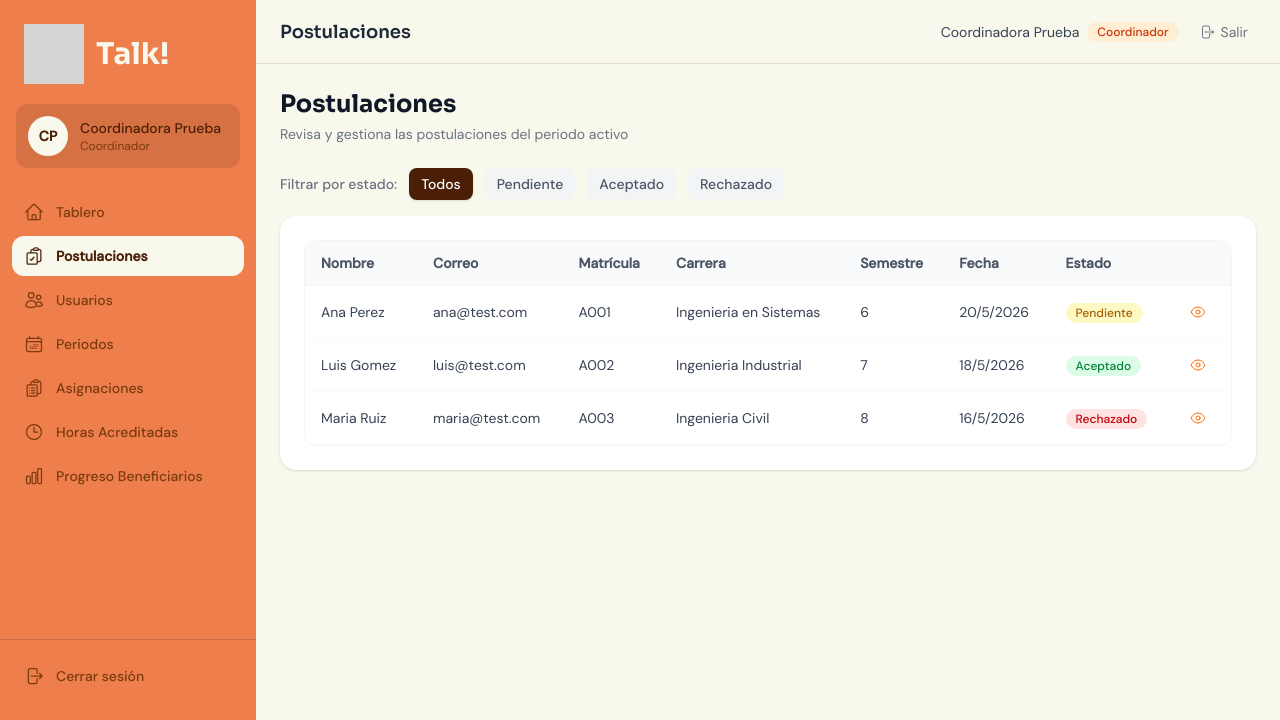
Postulaciones › closes detail modal without state changes
Click the button without text in the row of "Ana Perez".
click(1198, 312)  # box [1184, 298, 1212, 326]
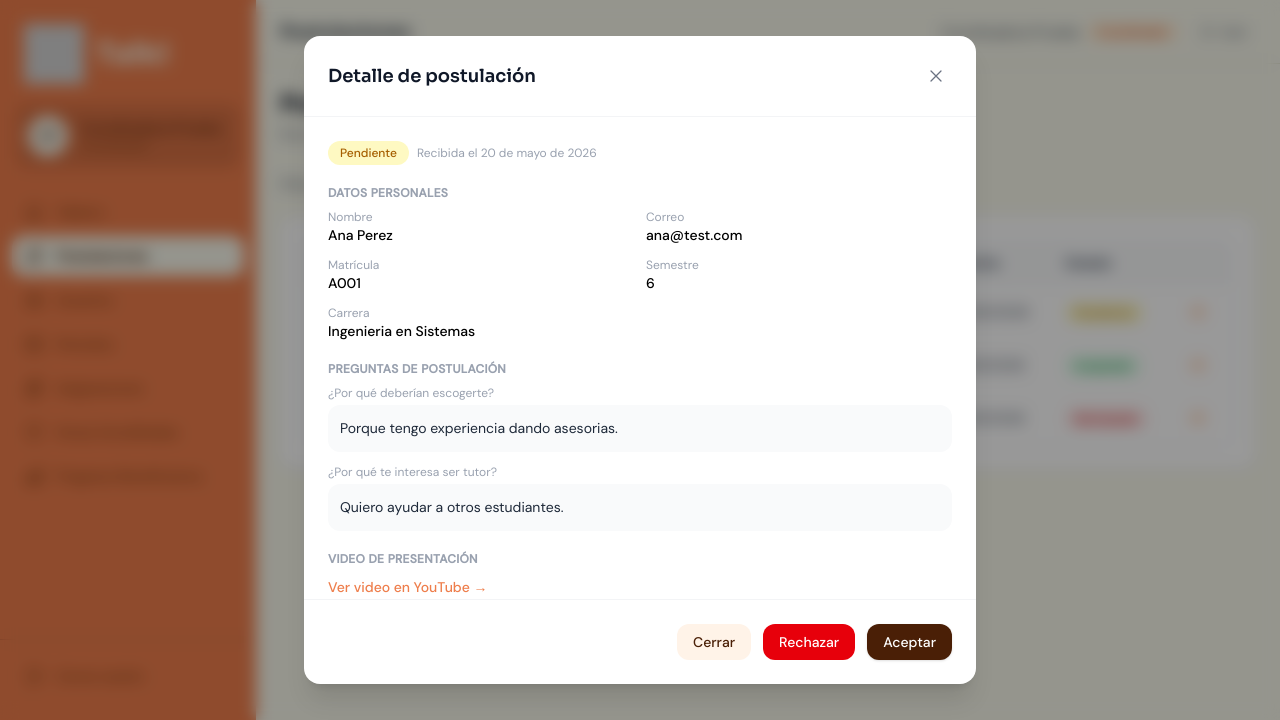
Check: the heading "Detalle de postulación" is shown, box [328, 62, 536, 90]
Click the button "Cerrar".
click(714, 642)  # box [677, 624, 751, 660]
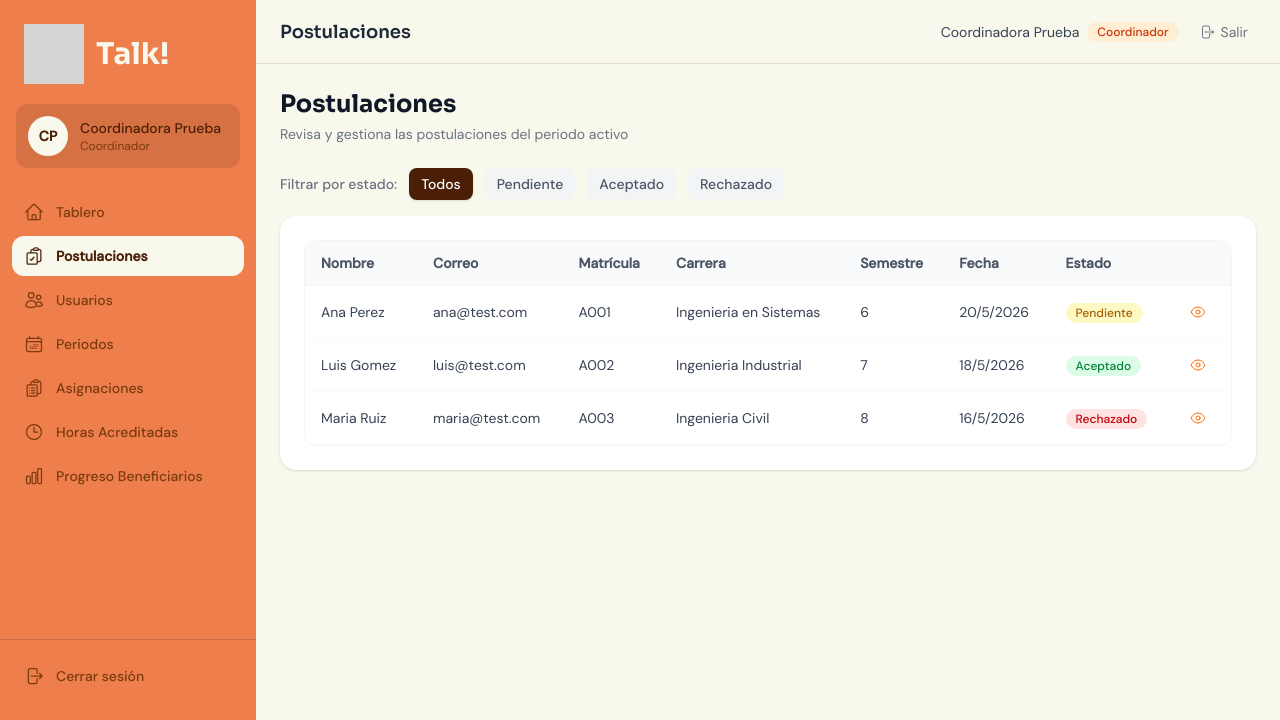
Check: the text "Ana Perez" is shown, box [305, 286, 417, 338]
Check: the heading "Detalle de postulación" is gone
